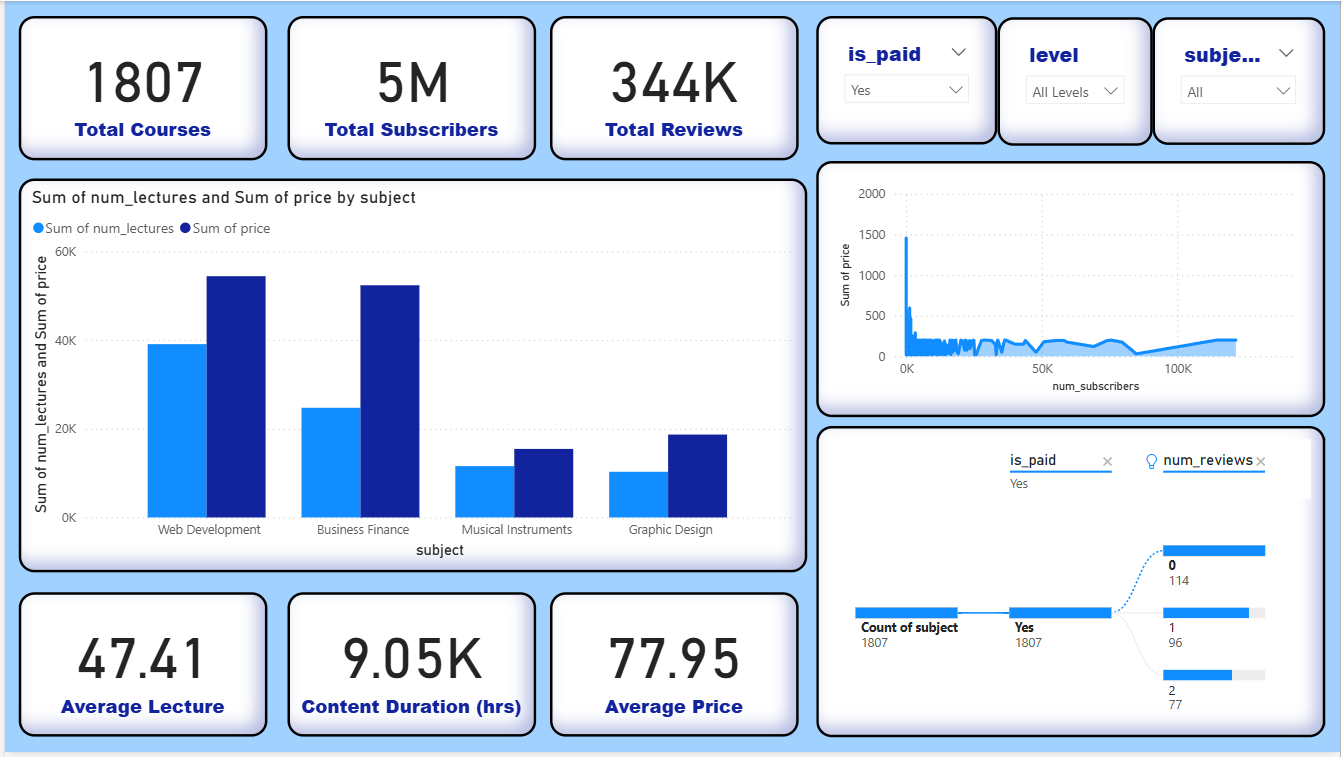

This screenshot's page, from the dashboard's own definition file:
{"tool":"powerbi","page":{"name":"Page 1","canvas":[1280,720],"ordinal":0},"visuals":[{"type":"card","fields":{"Values":["measure.Total Courses"]},"box":[13,14.4,238.1,138.5],"z":0},{"type":"card","fields":{"Values":["measure.Total Subscribers"]},"box":[271.2,14.4,238.1,138.5],"z":1000},{"type":"card","fields":{"Values":["measure.Total Reviews"]},"box":[522.3,14.4,238.1,138.5],"z":2000},{"type":"card","fields":{"Values":["measure.Average Lecture"]},"box":[13,567,238.1,138.5],"z":3000},{"type":"card","fields":{"Values":["measure.Content Duration (hrs)"]},"box":[271.2,567,238.1,138.5],"z":4000},{"type":"card","fields":{"Values":["measure.Average Price"]},"box":[522.3,567,238.1,138.5],"z":5000},{"type":"clusteredColumnChart","fields":{"Category":["ud.subject"],"Y":["Sum(ud.num_lectures)","Sum(ud.price)"]},"box":[13.2,170.2,756.3,377.5],"z":6000},{"type":"decompositionTreeVisual","fields":{"Analyze":["CountNonNull(ud.subject)"],"ExplainBy":["ud.is_paid","ud.num_reviews"]},"box":[778,407.3,487.8,298.8],"z":7000},{"type":"slicer","fields":{"Values":["ud.is_paid"]},"box":[777.8,14.4,173.8,123.4],"z":8000},{"type":"slicer","fields":{"Values":["ud.level"]},"box":[951.6,15.6,148.6,123.4],"z":9000},{"type":"stackedAreaChart","fields":{"Category":["ud.num_subscribers"],"Y":["Sum(ud.price)"]},"box":[777.8,153.4,487.8,245.7],"z":10000},{"type":"slicer","fields":{"Values":["ud.subject"]},"box":[1100.2,15.6,165.4,122.2],"z":11000}]}

Visuals, with their boxes in screenshot pixels (x1, y1, x2, y2), scaled from the page's 1280x720 canvas onto the 1342x757 screenshot:
card - measure.Total Courses: select_region(14, 15, 263, 161)
card - measure.Total Subscribers: select_region(284, 15, 534, 161)
card - measure.Total Reviews: select_region(548, 15, 797, 161)
card - measure.Average Lecture: select_region(14, 596, 263, 742)
card - measure.Content Duration (hrs): select_region(284, 596, 534, 742)
card - measure.Average Price: select_region(548, 596, 797, 742)
clusteredColumnChart - ud.subject x Sum(ud.num_lectures): select_region(14, 179, 807, 576)
decompositionTreeVisual - CountNonNull(ud.subject) x ud.is_paid: select_region(816, 428, 1327, 742)
slicer - ud.is_paid: select_region(815, 15, 998, 145)
slicer - ud.level: select_region(998, 16, 1153, 146)
stackedAreaChart - ud.num_subscribers x Sum(ud.price): select_region(815, 161, 1327, 420)
slicer - ud.subject: select_region(1153, 16, 1327, 145)
